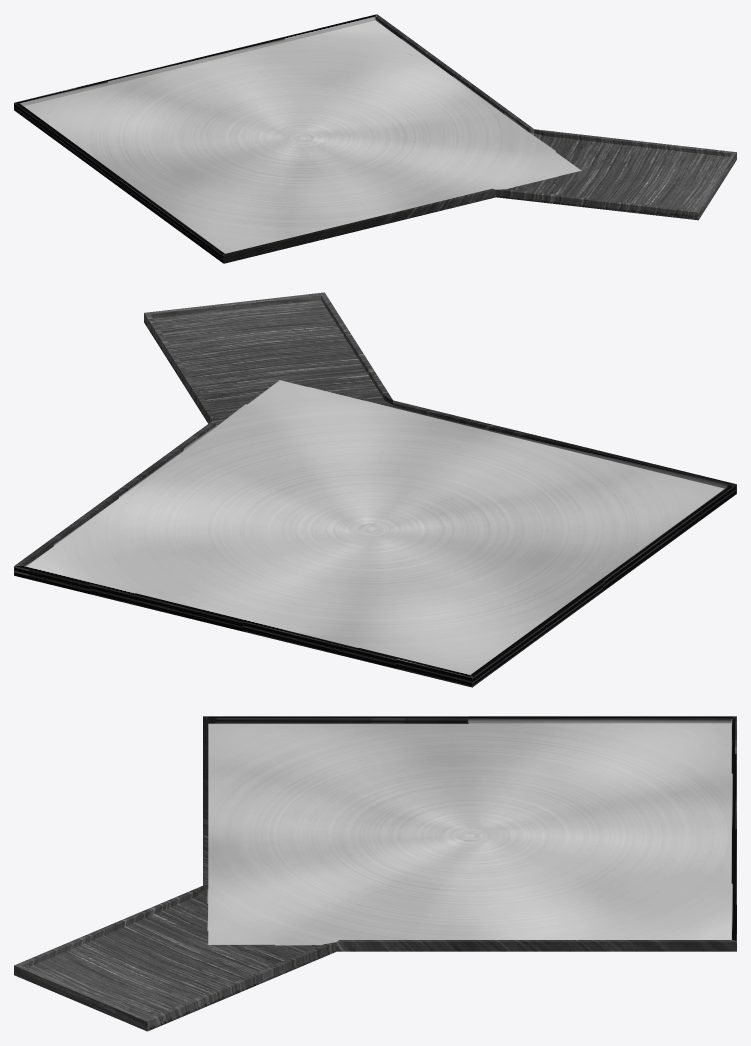
Rendered from Map3.FBX.
3 renders of one model, top to bottom at view 1: azimuth 30°, elevation 25°; view 2: azimuth 150°, elevation 25°; view 3: azimuth 270°, elevation 25°, orthographic. The views are drawn at different scales.
Visible parts, largest first — view 1: Box001; view 2: Box001; view 3: Box001.
Part boxes in pixels (x1,y1,x2,y2): Box001: (14, 14, 736, 263); Box001: (14, 292, 736, 687); Box001: (14, 716, 736, 1031).
Size of the model in its own units: 533 by 533 by 7.87.
